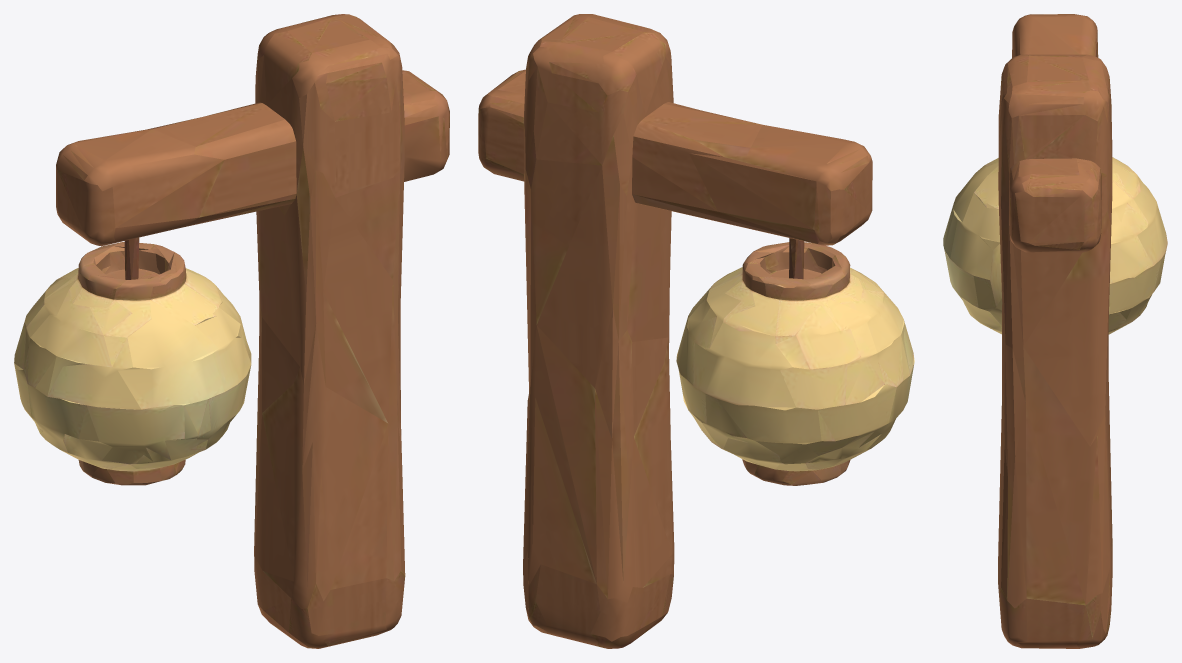
The model's file is lantern.glb.
The picture shows the model from 3 angles, left to right: view 1: azimuth 30°, elevation 25°; view 2: azimuth 150°, elevation 25°; view 3: azimuth 270°, elevation 25°; orthographic projection. The views are drawn at different scales.
Visible parts, largest first — view 1: Mesh_0; view 2: Mesh_0; view 3: Mesh_0.
Part boxes in pixels (<box>): Mesh_0: <box>14,14,449,648</box>; Mesh_0: <box>478,14,914,648</box>; Mesh_0: <box>943,14,1167,648</box>.
Size of the model in its own units: 1.35 by 1.9 by 0.6888.
Materials: 1 (1 with a texture image).
